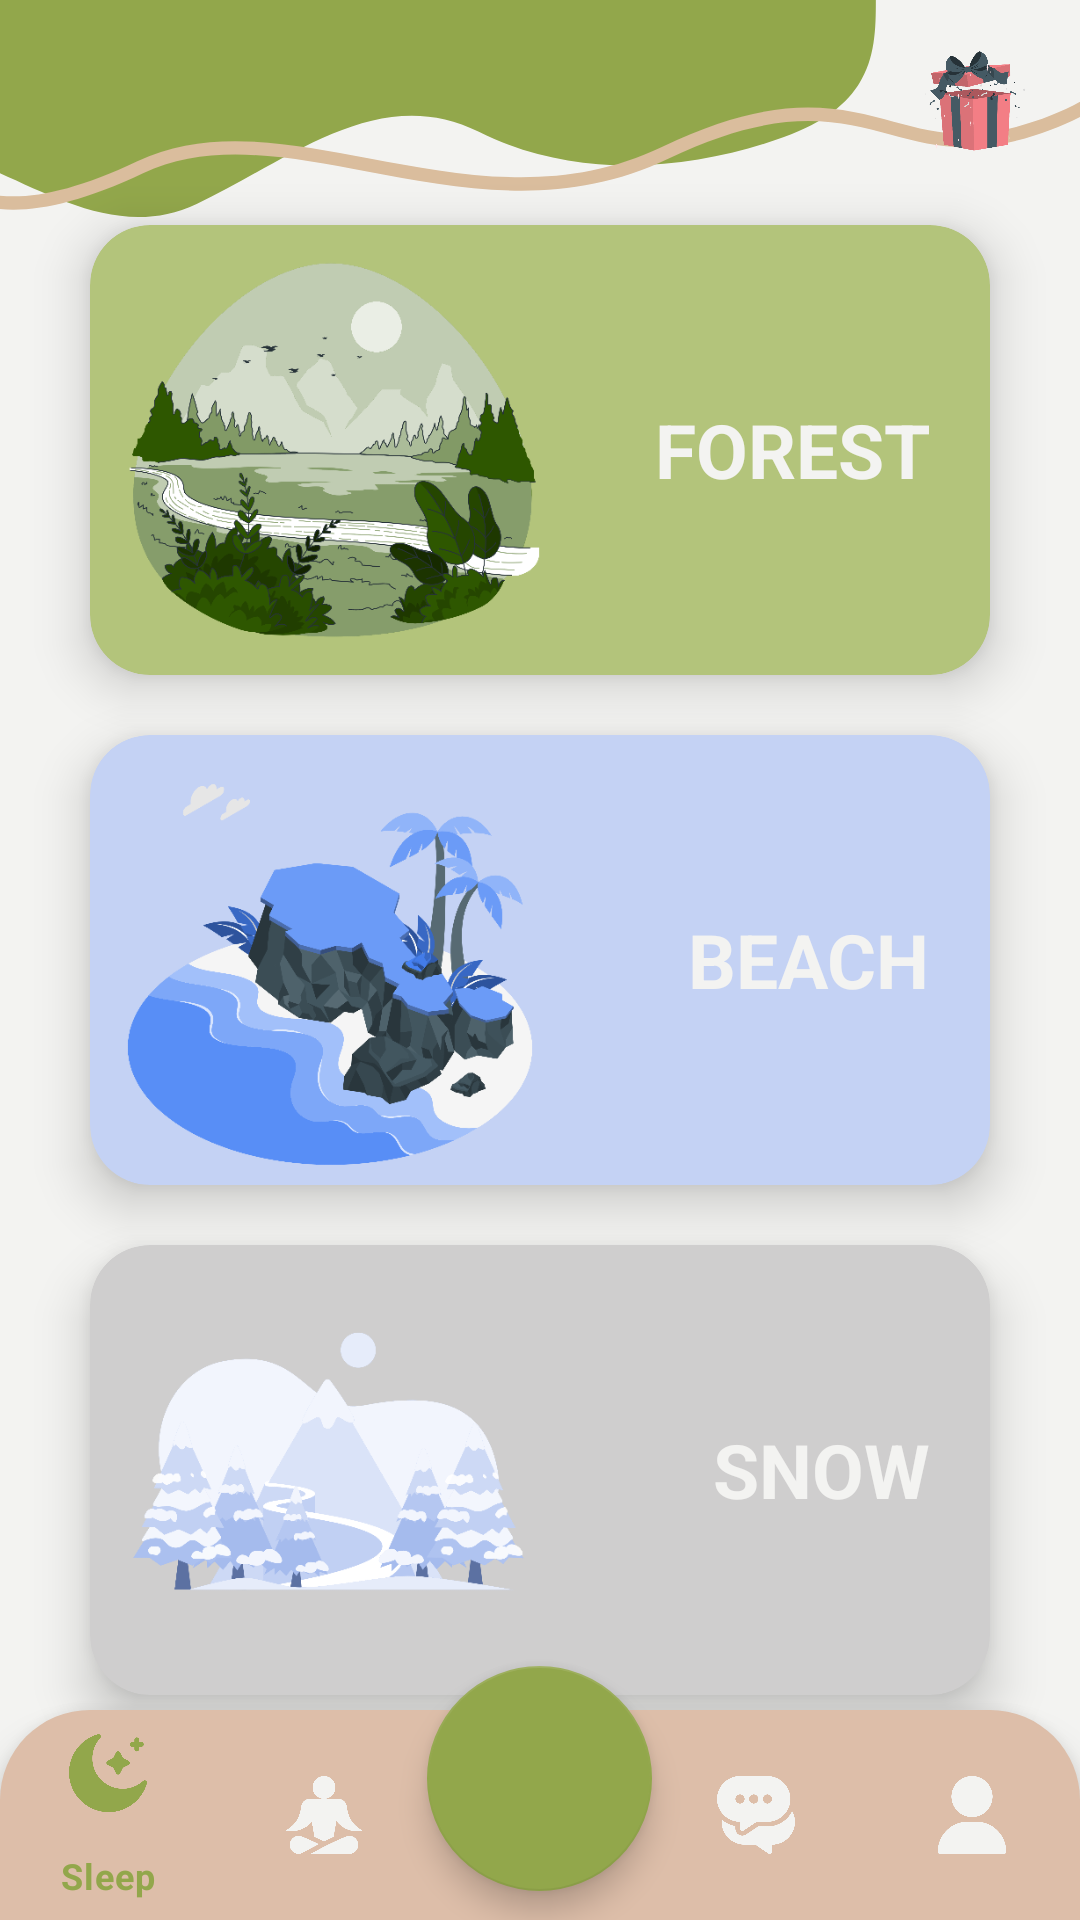

Locate icon controls on the screen. Image size 1080 × 1920, boxes as (x1,y1,x2,y2).
gift: (915,51,1035,151)
